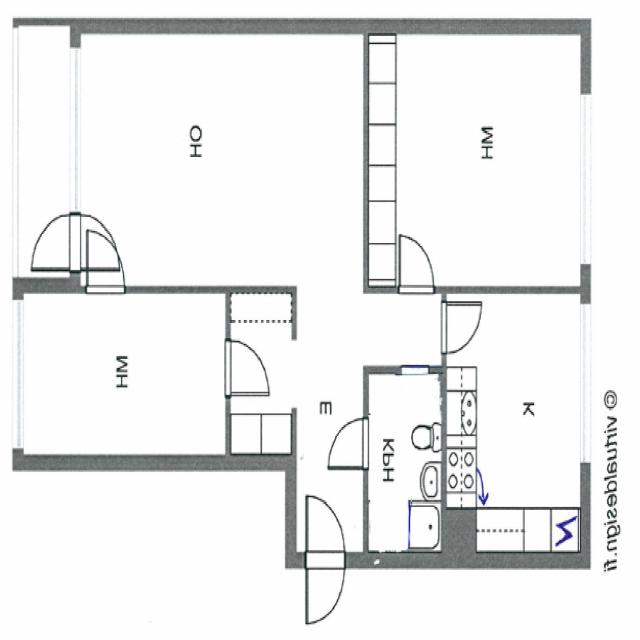door: (306, 495, 346, 570), (306, 554, 346, 628), (70, 214, 120, 269), (33, 214, 81, 269), (226, 339, 270, 396), (87, 230, 125, 293), (327, 417, 369, 469), (399, 236, 434, 293), (442, 303, 481, 352)
